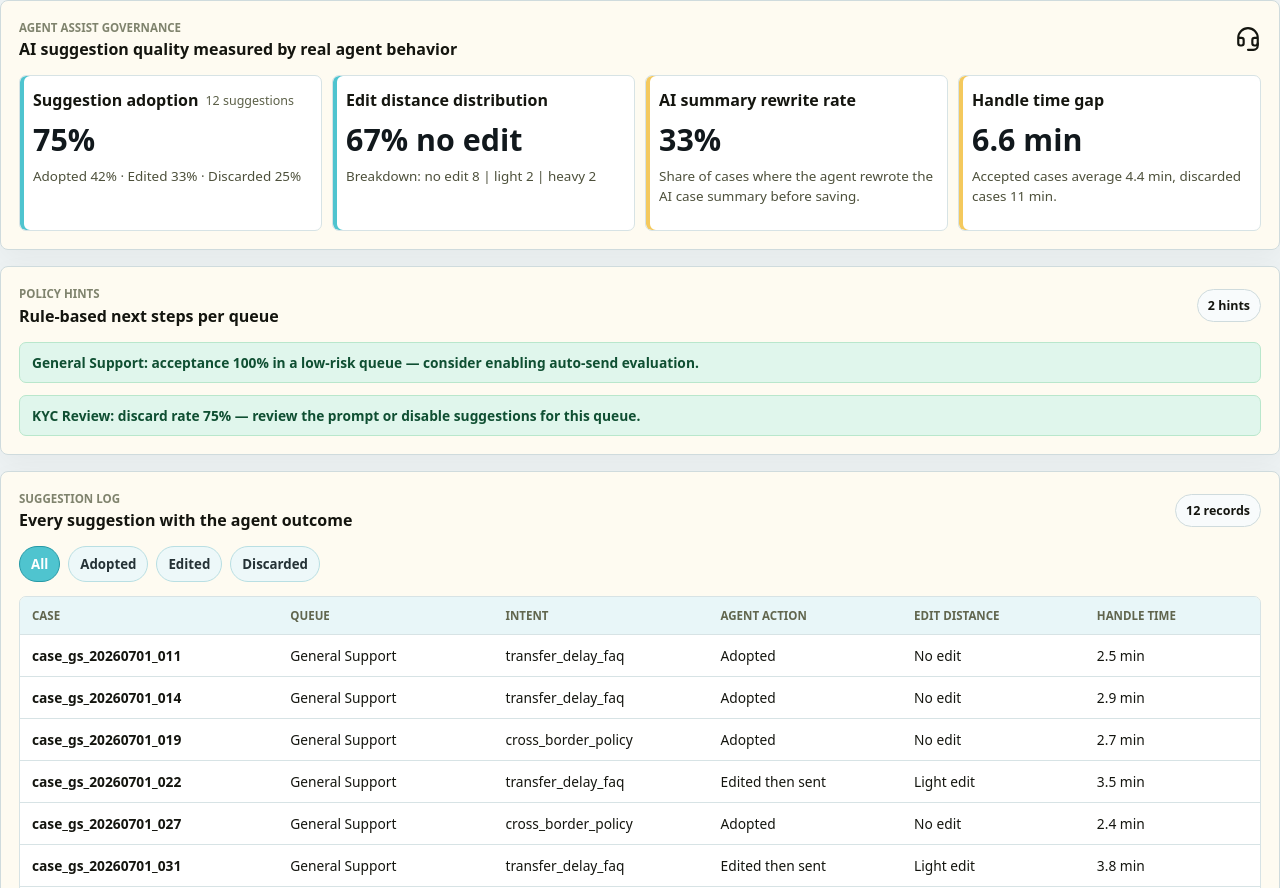
Test case: AgentAssist › filters the suggestion log by agent action
The width and height of the screenshot is (1280, 888).
Expected: the button "case_gs_20260701_011" is shown, [20,635,1260,677]
Click the button "Discarded".
click(275, 564)  # box [230,546,320,582]
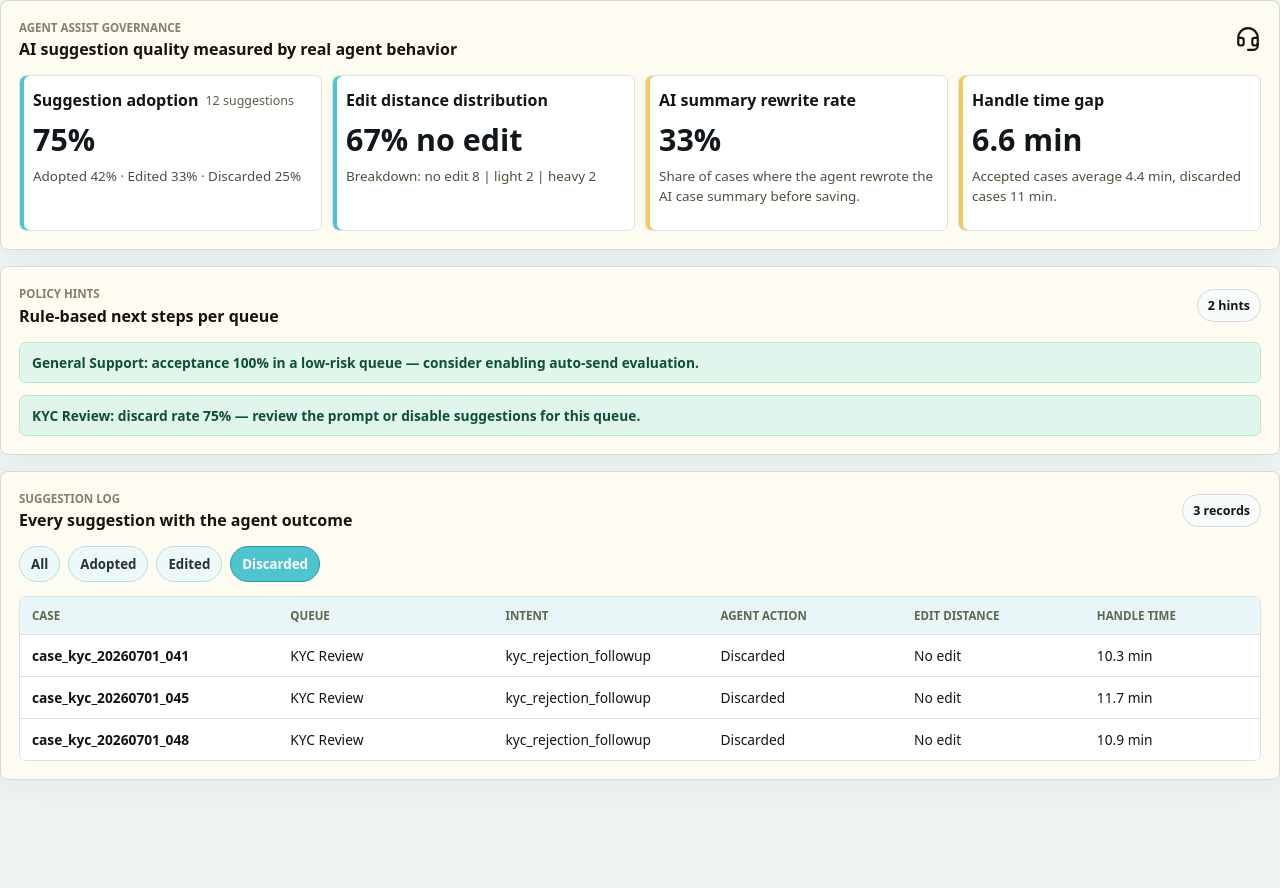
Expected: the button "case_kyc_20260701_041" is shown, [20,635,1260,677]
Expected: the button "case_gs_20260701_011" is gone
